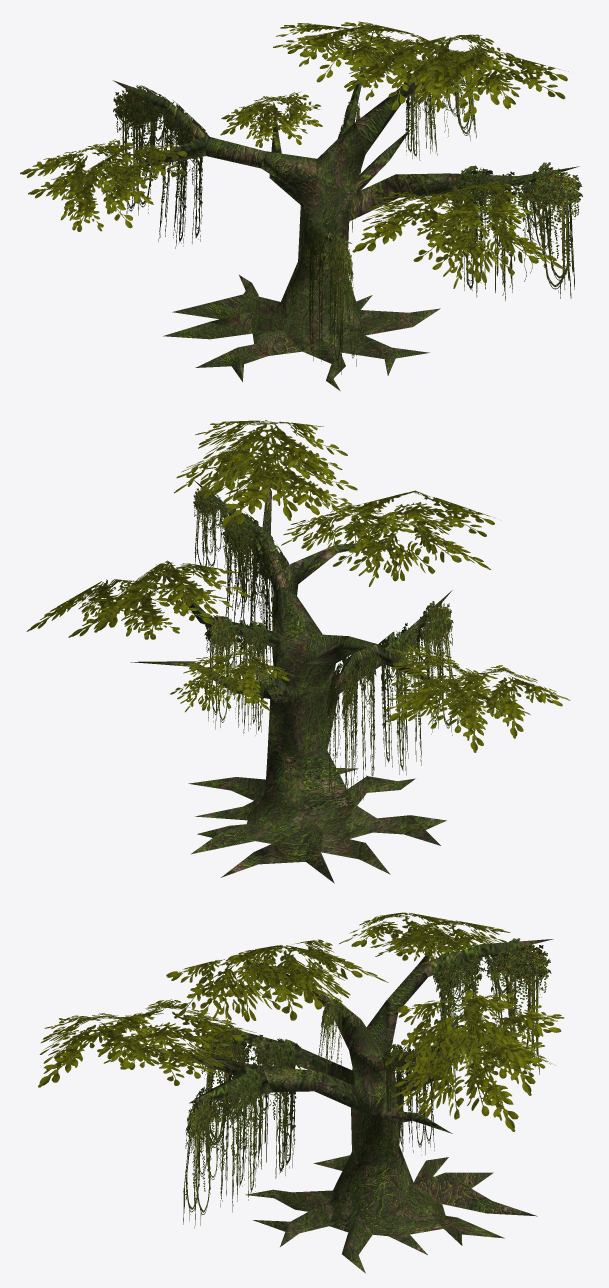
The model's file is fxmg_shu4.FBX.
3 renders of one model, top to bottom at view 1: azimuth 30°, elevation 25°; view 2: azimuth 150°, elevation 25°; view 3: azimuth 270°, elevation 25°, orthographic. The views are drawn at different scales.
Visible parts, largest first — view 1: KLMSM_shu4_2, KLMSM_shu4, KLMSM_shu4_3; view 2: KLMSM_shu4_2, KLMSM_shu4, KLMSM_shu4_3; view 3: KLMSM_shu4_2, KLMSM_shu4, KLMSM_shu4_3.
Boxes of the visible parts, left/top/right/bottom form: KLMSM_shu4_2: left=20, top=21, right=568, bottom=288; KLMSM_shu4: left=112, top=27, right=579, bottom=391; KLMSM_shu4_3: left=113, top=50, right=582, bottom=374; KLMSM_shu4_2: left=26, top=420, right=570, bottom=752; KLMSM_shu4: left=130, top=458, right=452, bottom=883; KLMSM_shu4_3: left=193, top=488, right=457, bottom=814; KLMSM_shu4_2: left=38, top=912, right=564, bottom=1131; KLMSM_shu4: left=149, top=939, right=553, bottom=1273; KLMSM_shu4_3: left=183, top=938, right=551, bottom=1228.
Size of the model in its own units: 1093 by 663 by 1112.
